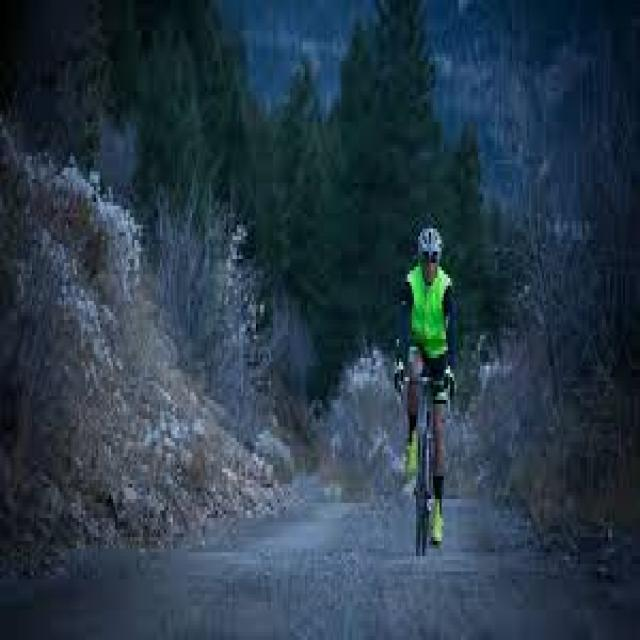Reflective-Jacket: (394, 263, 460, 381)
Safety-Helmet: (412, 217, 448, 271)
